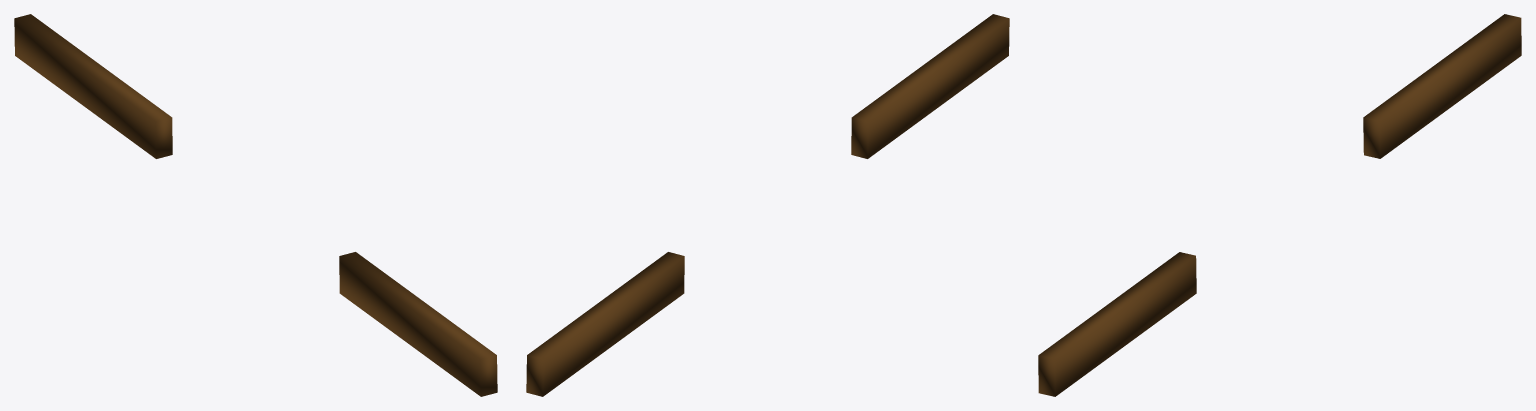
The model's file is RogerBrows.glb.
3 renders of one model, left to right at view 1: azimuth 30°, elevation 25°; view 2: azimuth 150°, elevation 25°; view 3: azimuth 330°, elevation 25°, orthographic.
Parts seen in each view (by area): view 1: RogerBrows; view 2: RogerBrows; view 3: RogerBrows.
Part boxes in pixels (bbox=[...]): RogerBrows: bbox=[14, 14, 497, 396]; RogerBrows: bbox=[526, 14, 1009, 396]; RogerBrows: bbox=[1038, 14, 1521, 396].
Size of the model in its own units: 0.067 by 0.1414 by 3.15.
